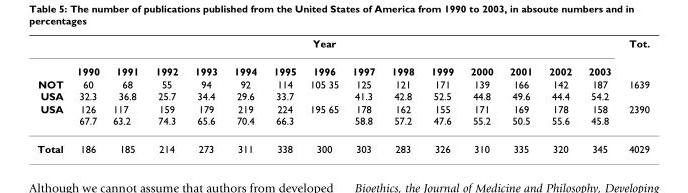table: (36, 36, 649, 154)
table column: (302, 36, 344, 154), (105, 36, 146, 154), (185, 36, 225, 154), (382, 36, 422, 154), (500, 36, 540, 154), (579, 36, 619, 154), (146, 36, 185, 154), (225, 36, 264, 154), (422, 36, 461, 154), (461, 36, 500, 154), (540, 36, 579, 154), (264, 36, 302, 154), (344, 36, 382, 154), (69, 36, 105, 154), (36, 36, 69, 154), (619, 36, 649, 154)
table column header: (36, 36, 649, 134)
table row: (36, 102, 649, 134), (36, 77, 649, 102), (36, 56, 649, 77), (36, 36, 649, 56), (36, 134, 649, 154)
table spanning cell: (36, 36, 619, 56), (302, 56, 344, 134), (105, 56, 146, 134), (185, 56, 225, 134), (382, 56, 422, 134), (500, 56, 540, 134), (579, 56, 619, 134), (146, 56, 185, 134), (225, 56, 264, 134), (422, 56, 461, 134), (461, 56, 500, 134), (540, 56, 579, 134), (264, 56, 302, 134), (344, 56, 382, 134), (619, 36, 649, 134), (69, 56, 105, 134), (36, 56, 69, 134)
